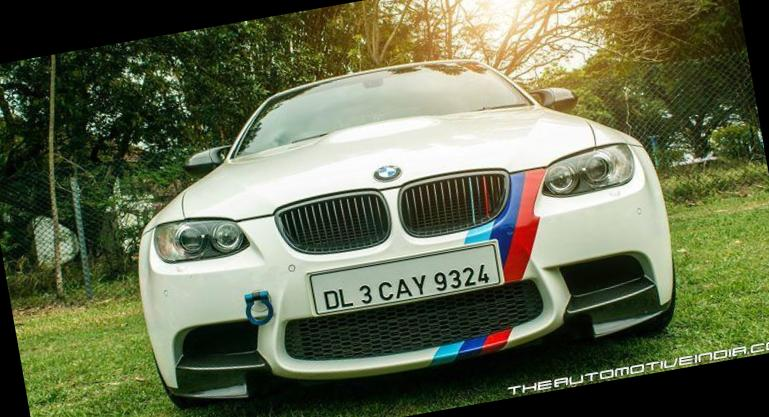plate: (301, 239, 506, 334)
